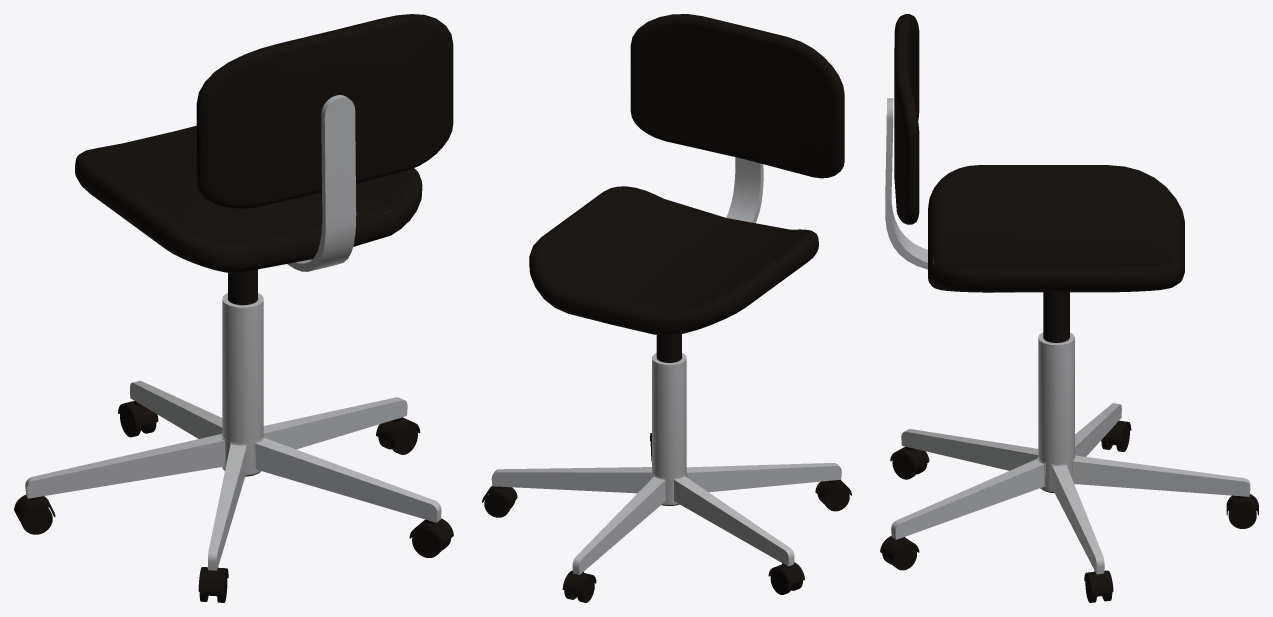
File: chair.fbx
The picture shows the model from 3 angles, left to right: view 1: azimuth 30°, elevation 25°; view 2: azimuth 150°, elevation 25°; view 3: azimuth 270°, elevation 25°; orthographic projection. The views are drawn at different scales.
Visible parts, largest first — view 1: Cube.003, chair, Cylinder.002, Cube.005, foot.005, foot.007, foot.008, foot, foot.006, Cube.001, Cube.007, Cube.008 (+1 smaller); view 2: chair, Cube.003, Cylinder.002, foot.008, foot.006, foot.005, foot, Cube.005, Cube.008, Cube.006; view 3: chair, Cylinder.002, Cube.003, foot, foot.007, foot.006, foot.008, Cube.005, foot.005, Cube.002, Cube.007, Cube.006 (+1 smaller).
Boxes of the visible parts, bbox=[...] form: Cube.003: bbox=[196, 14, 453, 208]; chair: bbox=[75, 125, 422, 273]; Cylinder.002: bbox=[222, 269, 263, 476]; Cube.005: bbox=[287, 95, 356, 271]; foot.005: bbox=[25, 434, 224, 498]; foot.007: bbox=[255, 437, 441, 522]; foot.008: bbox=[263, 397, 407, 449]; foot: bbox=[130, 380, 222, 438]; foot.006: bbox=[208, 444, 246, 570]; Cube.001: bbox=[20, 504, 52, 534]; Cube.007: bbox=[412, 527, 450, 557]; Cube.008: bbox=[378, 423, 417, 454]; chair: bbox=[529, 186, 818, 335]; Cube.003: bbox=[630, 14, 844, 178]; Cylinder.002: bbox=[652, 334, 686, 505]; foot.008: bbox=[491, 467, 651, 493]; foot.006: bbox=[686, 463, 841, 492]; foot.005: bbox=[673, 476, 794, 566]; foot: bbox=[572, 476, 665, 574]; Cube.005: bbox=[726, 157, 763, 223]; Cube.008: bbox=[484, 492, 514, 517]; Cube.006: bbox=[818, 485, 849, 511]; chair: bbox=[928, 165, 1184, 292]; Cylinder.002: bbox=[1038, 292, 1074, 492]; Cube.003: bbox=[894, 14, 919, 224]; foot: bbox=[1073, 455, 1250, 496]; foot.007: bbox=[891, 458, 1044, 539]; foot.006: bbox=[901, 429, 1038, 470]; foot.008: bbox=[1052, 464, 1104, 574]; Cube.005: bbox=[885, 98, 1014, 292]; foot.005: bbox=[1075, 403, 1121, 456]; Cube.002: bbox=[1228, 502, 1256, 528]; Cube.007: bbox=[882, 543, 916, 570]; Cube.006: bbox=[892, 452, 927, 479].
Size of the model in its own units: 53.78 by 71.67 by 51.58.
